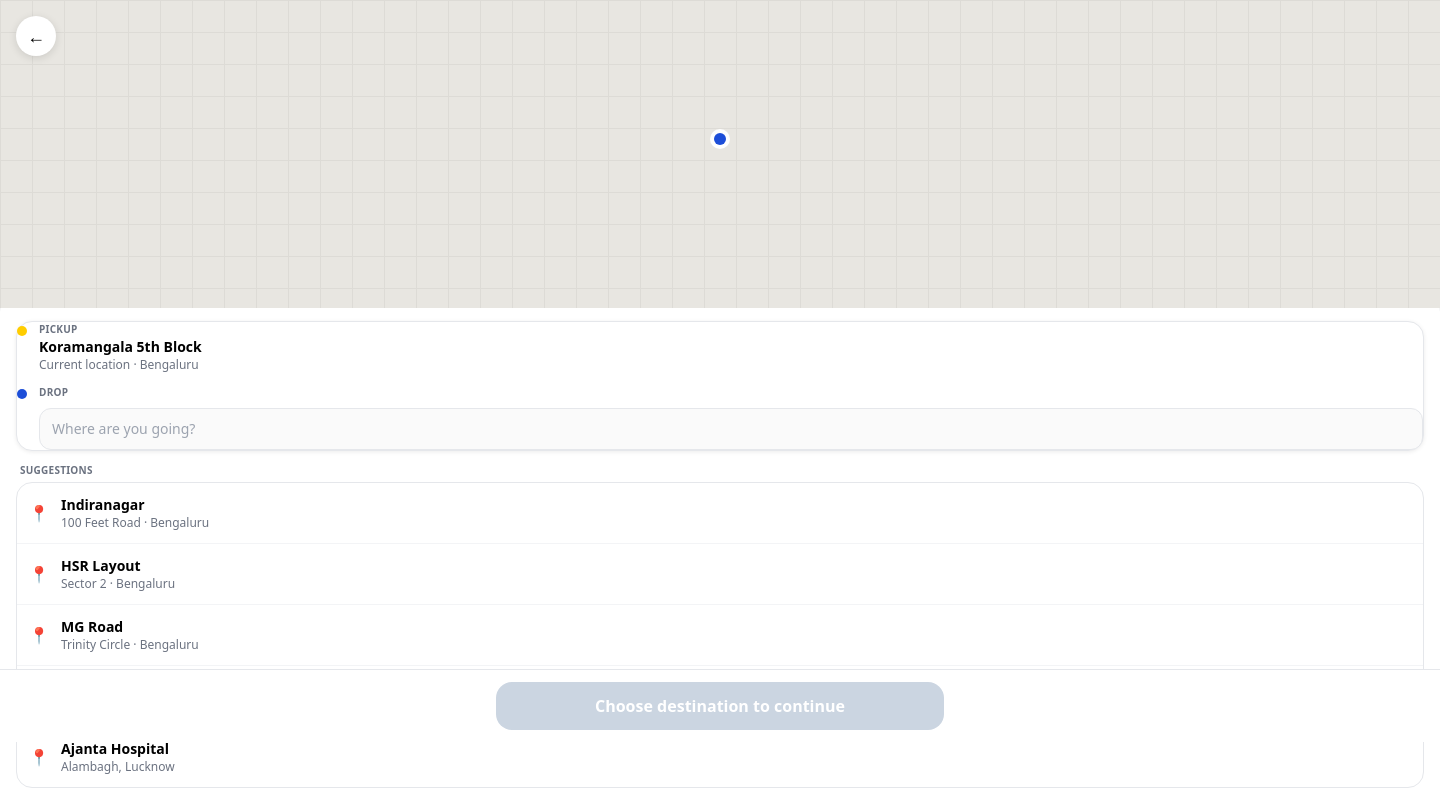
Scenario: recovery flow integration › restricted rebooking shows assured pay blocked with standard ride note
Click the button with test id "destination-suggestion-indiranagar" at (103, 504), box [17, 483, 1423, 543]
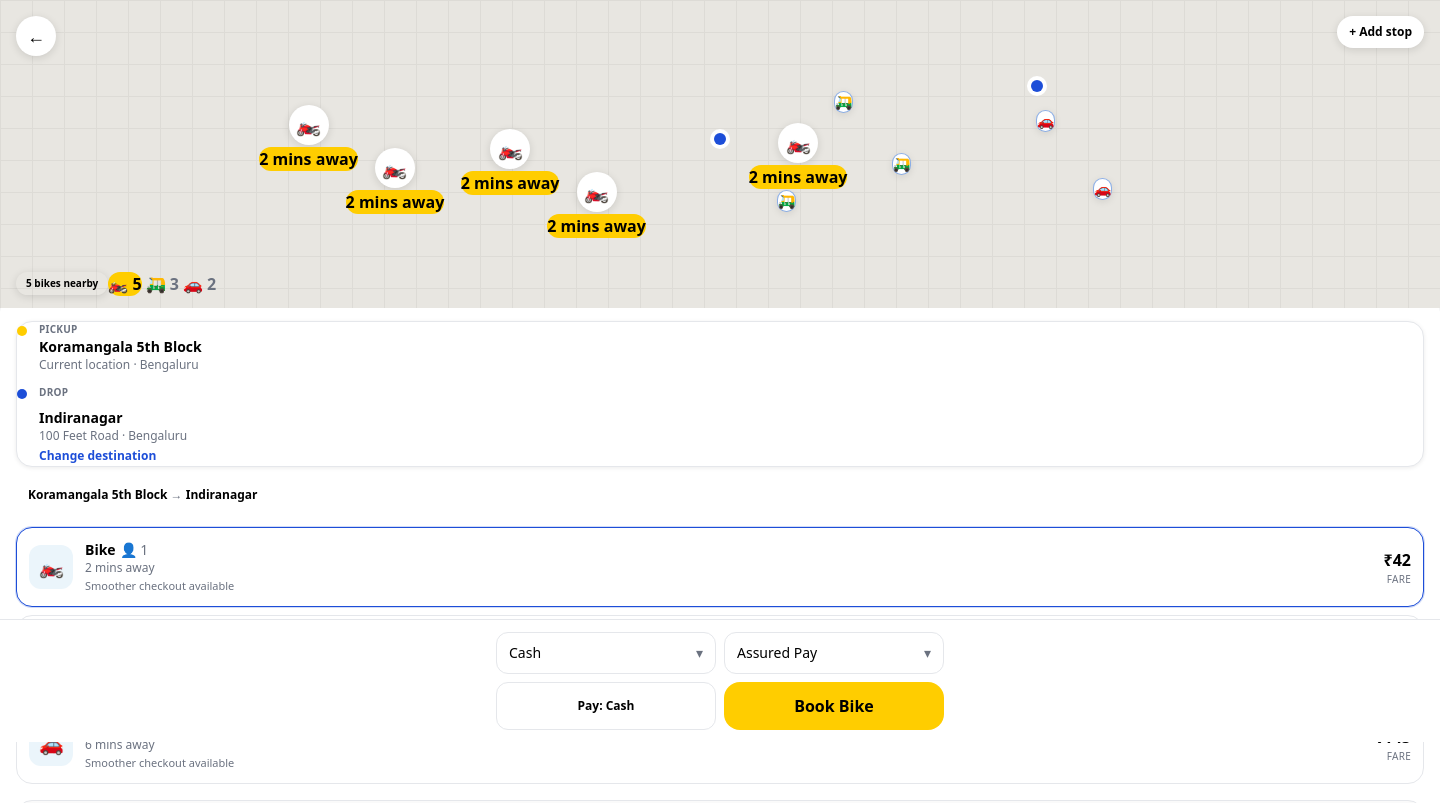
Expected: the button "Book Bike" is shown, [724, 682, 944, 730]
